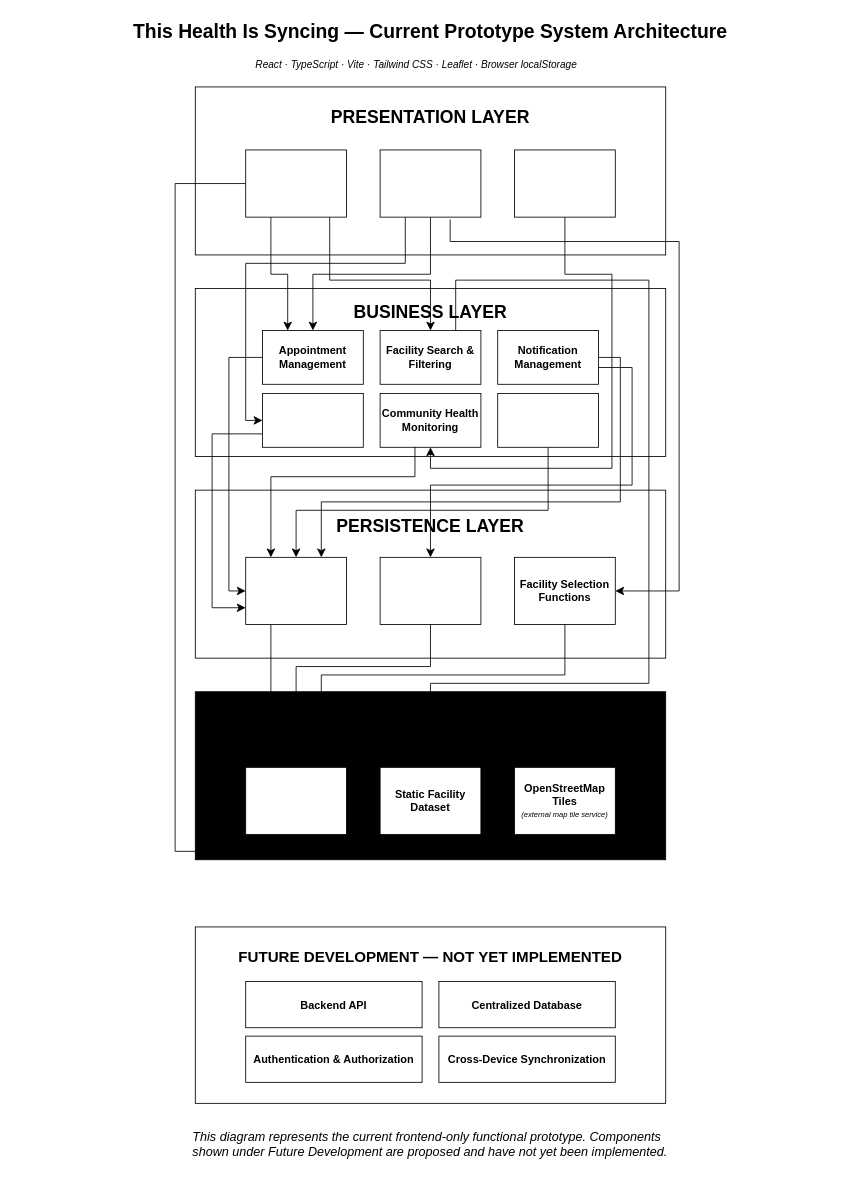
The diagram is 860 pixels wide and 1179 high, and some of its shapes have lost their labels. The shapes that lost their labels are listed below. From the top down, each one's centre as x and y in pixels, then its label:
the point at 295,183: Patient Portal
the point at 430,183: Facility Portal
the point at 564,183: LGU / DRRM Portal
the point at 312,420: Facility Analytics
the point at 547,420: Demo Data Generation
the point at 295,590: Appointment Storage Functions
the point at 430,590: Notification State Functions
the point at 295,800: Browser localStorage
